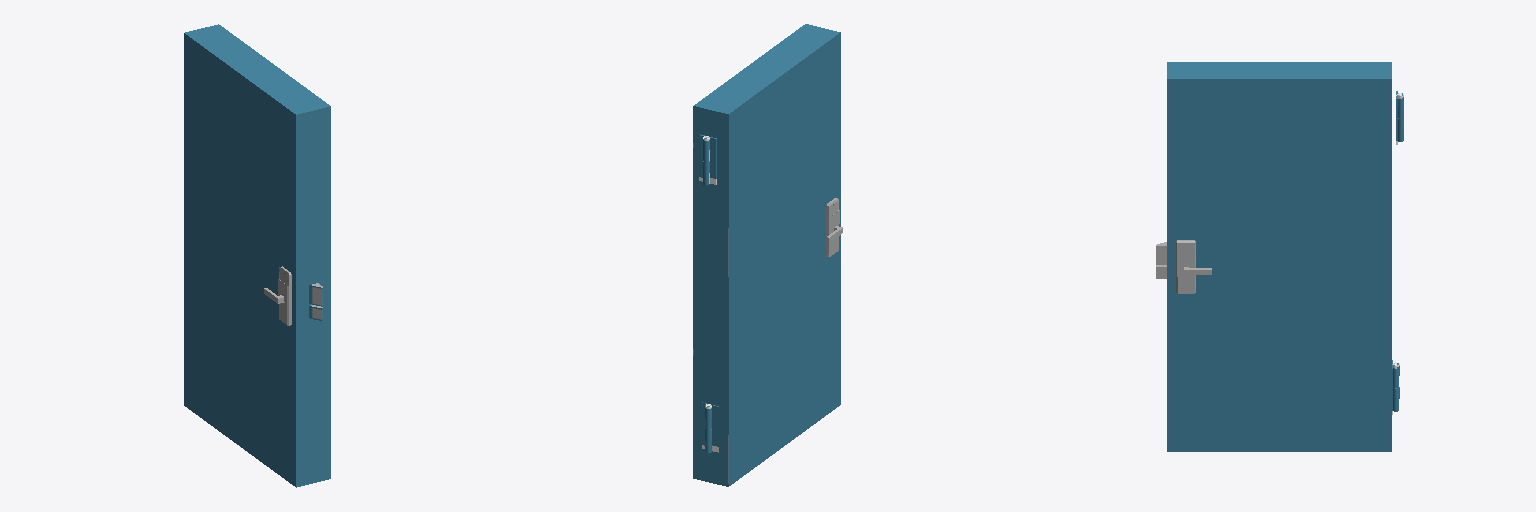
The picture shows the model from 3 angles: view 1: azimuth 30°, elevation 25°; view 2: azimuth 150°, elevation 25°; view 3: azimuth 270°, elevation 25°; orthographic projection.
Parts seen in each view (by area): view 1: group3 pCube22; view 2: group3 pCube22; view 3: group3 pCube22.
Part boxes in pixels (left/top/right/bottom): group3 pCube22: left=184, top=24, right=330, bottom=487; group3 pCube22: left=693, top=24, right=842, bottom=486; group3 pCube22: left=1156, top=62, right=1391, bottom=451.
Size of the model in its own units: 0.3286 by 2.2 by 1.33.
1 materials, 1 textured.